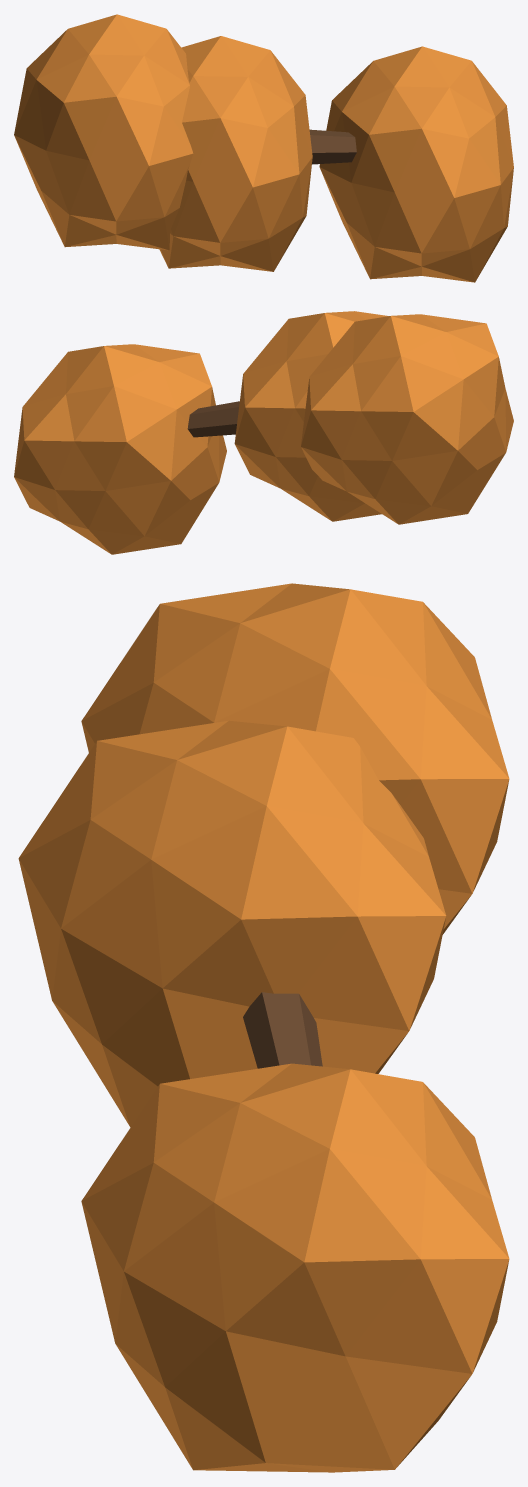
The model's file is falling-branch.glb.
3 renders of one model, top to bottom at view 1: azimuth 30°, elevation 25°; view 2: azimuth 150°, elevation 25°; view 3: azimuth 270°, elevation 25°, orthographic. The views are drawn at different scales.
Visible parts, largest first — view 1: branch; view 2: branch; view 3: branch.
Boxes of the visible parts, x1,y1,x2,y2 form: branch: (14, 14, 513, 282); branch: (14, 311, 513, 554); branch: (18, 583, 509, 1472).
Bounding box in the file's own units: 3.22 × 2.08 × 1.56.
